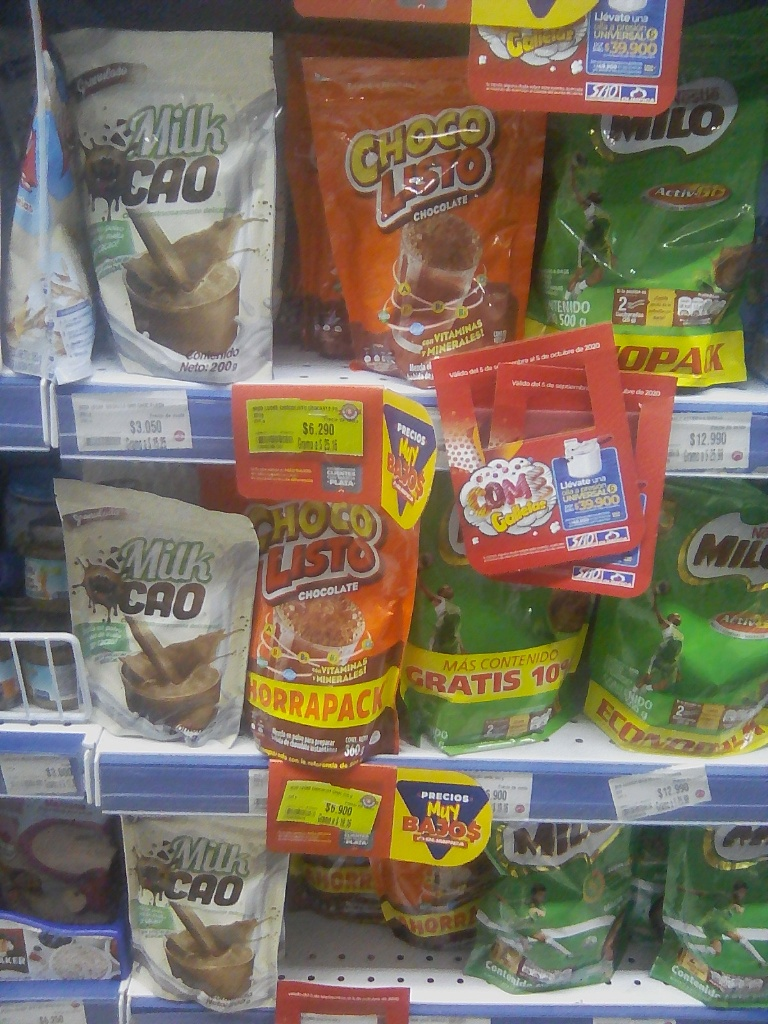COL0170103DYP20000: (278, 21, 541, 389)
COL0170103DYP36000: (246, 480, 414, 767)
COL0170203DYP50000: (539, 4, 767, 393)
